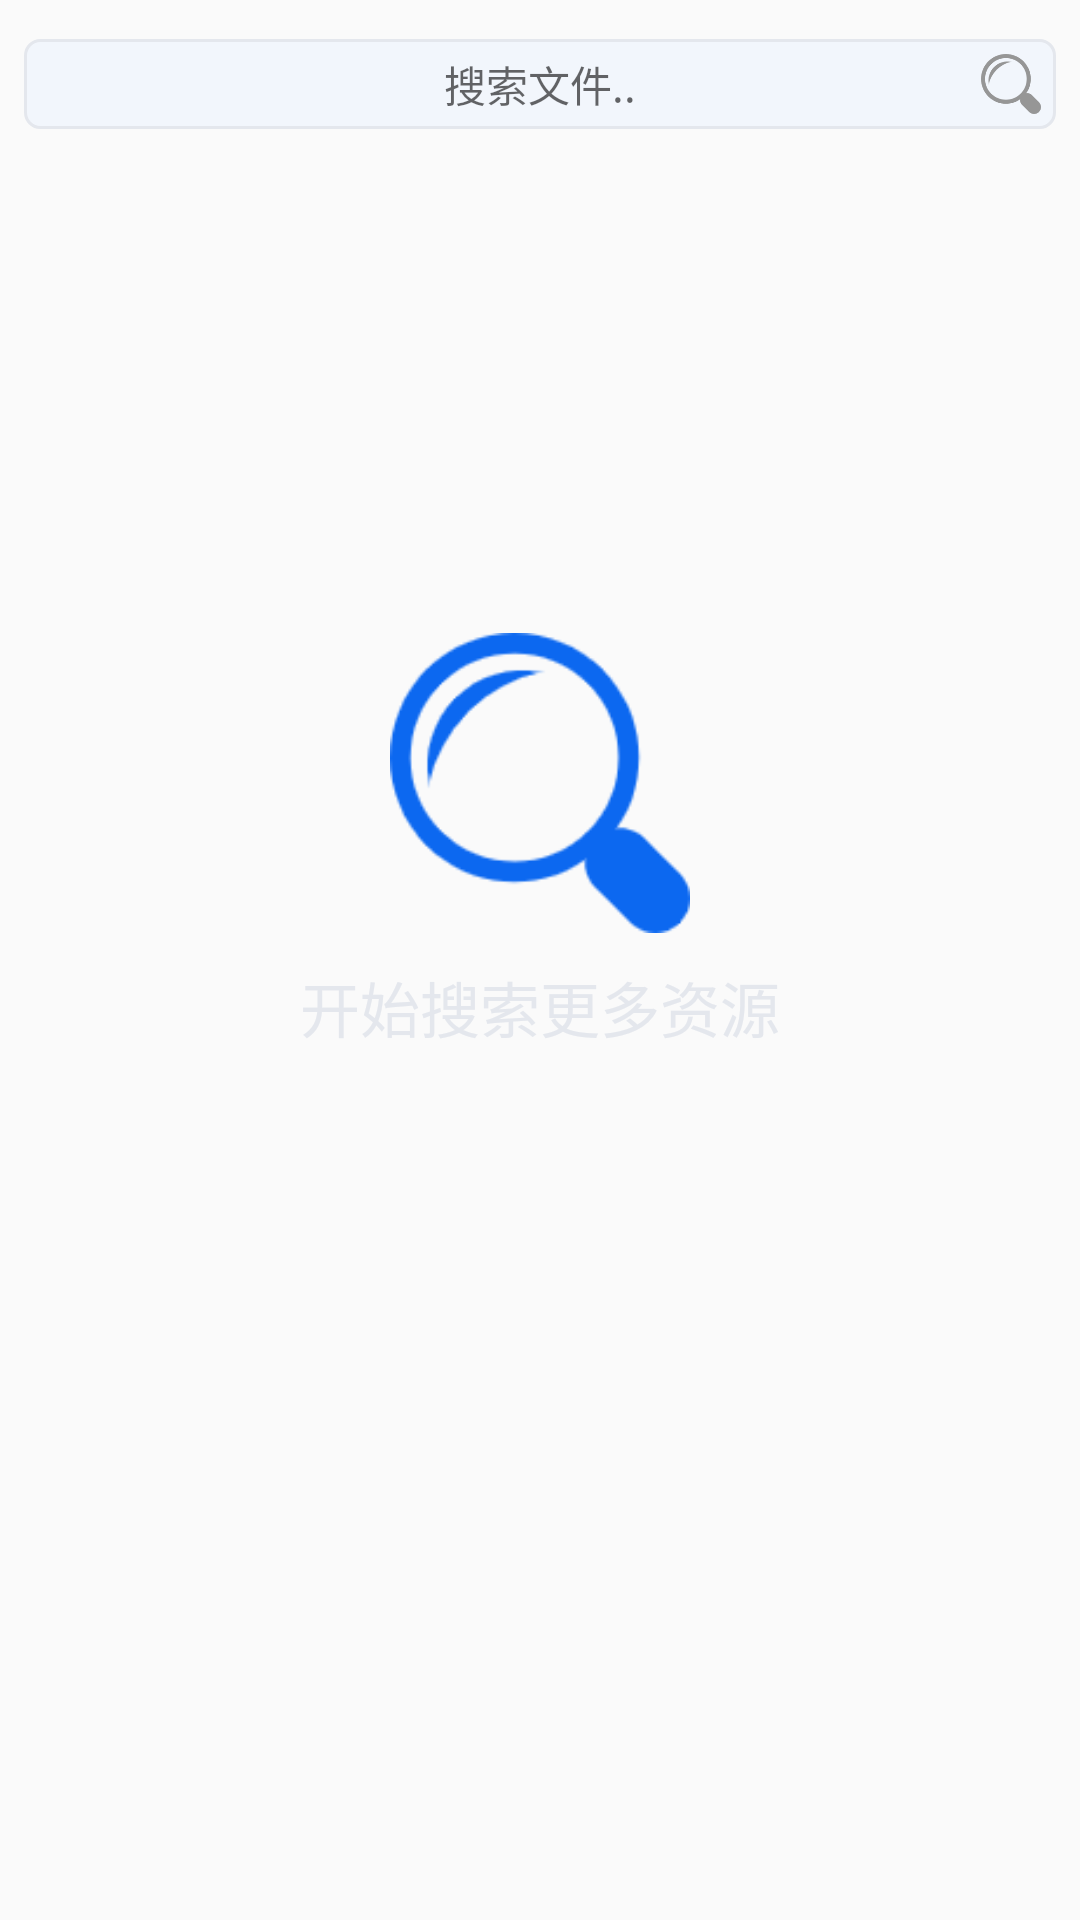

Screen size 1080 × 1920. Icon name, then its box in pixels as (x1, y1, x2, y2):
search: (981, 54, 1041, 114)
